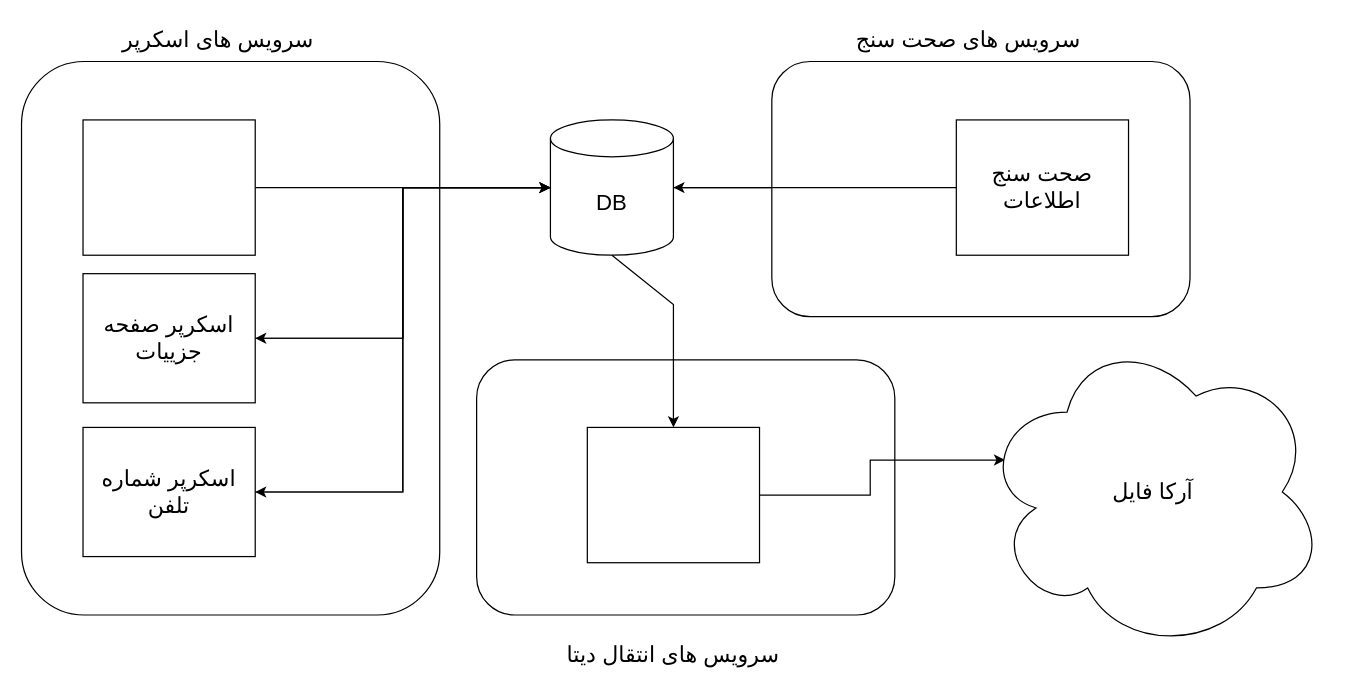
The diagram is 1347 pixels wide and 694 high, and some of its shapes have lost their labels. The shapes that lost their labels are listed below. From the top down, each one's centre as x and y in pixels, then its label:
the point at 168,187: اسکرپر صفحه اصلی
the point at 673,494: انتقال دیتا
